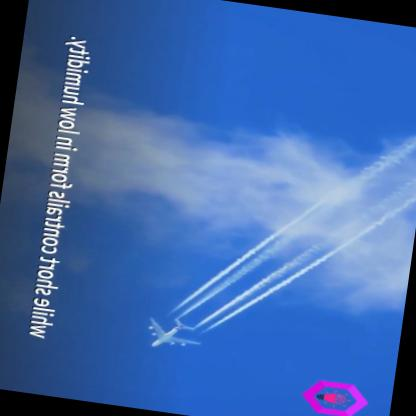plane: (136, 310, 207, 357)
